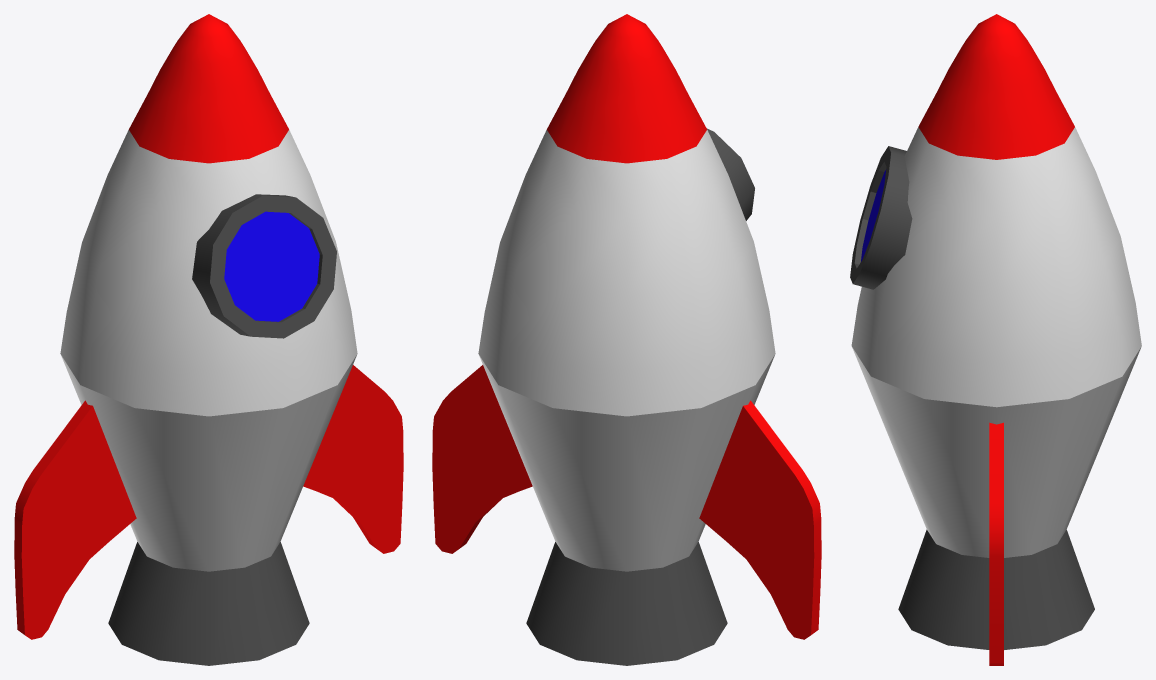
Rendered from ConeShip.fbx.
The picture shows the model from 3 angles, left to right: view 1: azimuth 30°, elevation 25°; view 2: azimuth 150°, elevation 25°; view 3: azimuth 270°, elevation 25°; orthographic projection. The views are drawn at different scales.
Visible parts, largest first — view 1: Cone Ship; view 2: Cone Ship; view 3: Cone Ship.
Boxes of the visible parts, box(x1,y1,x2,y2) form: Cone Ship: box(14, 14, 403, 665); Cone Ship: box(432, 14, 821, 665); Cone Ship: box(850, 14, 1141, 665).
Bounding box in the file's own units: 47.55 × 72.46 × 32.19.
